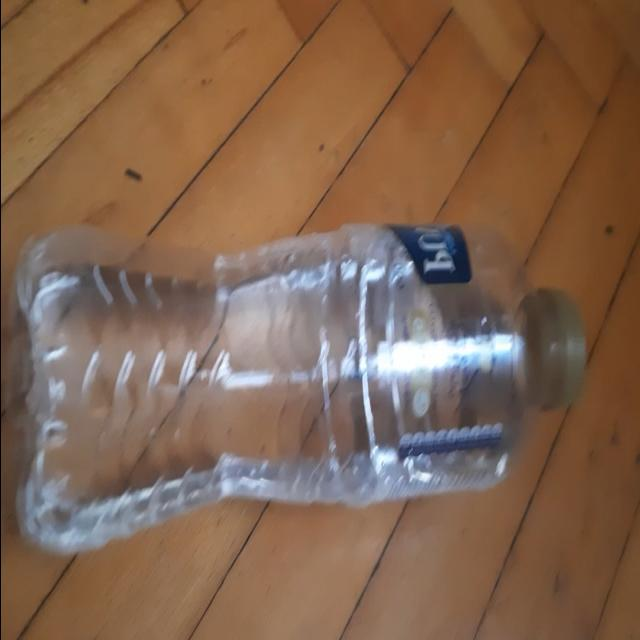Plastic: (0, 224, 586, 556)
